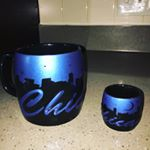cups: (1, 40, 92, 129), (97, 78, 149, 136)
